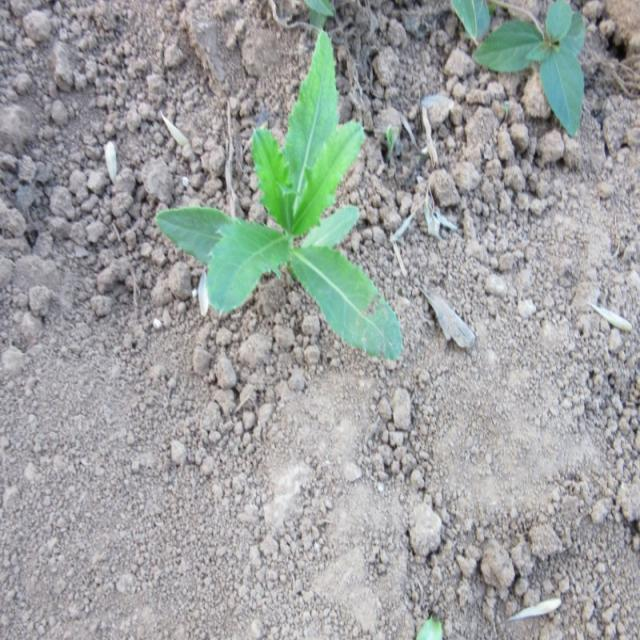cs: (153, 28, 405, 362)
